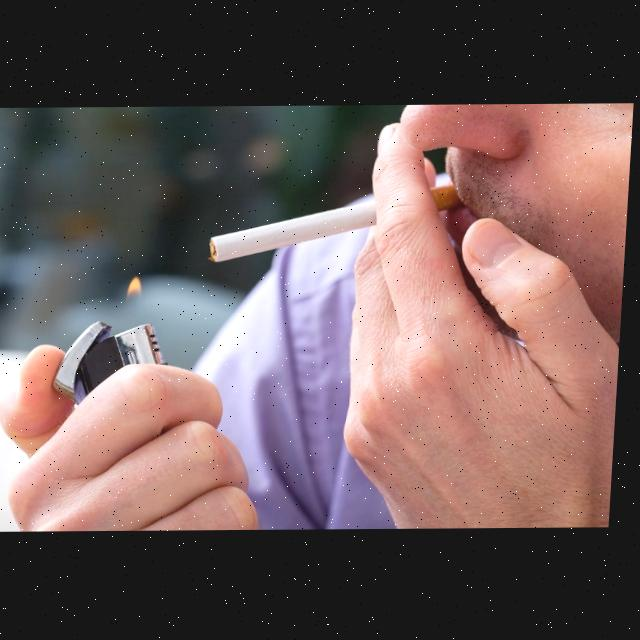cigarette: (212, 185, 471, 263)
